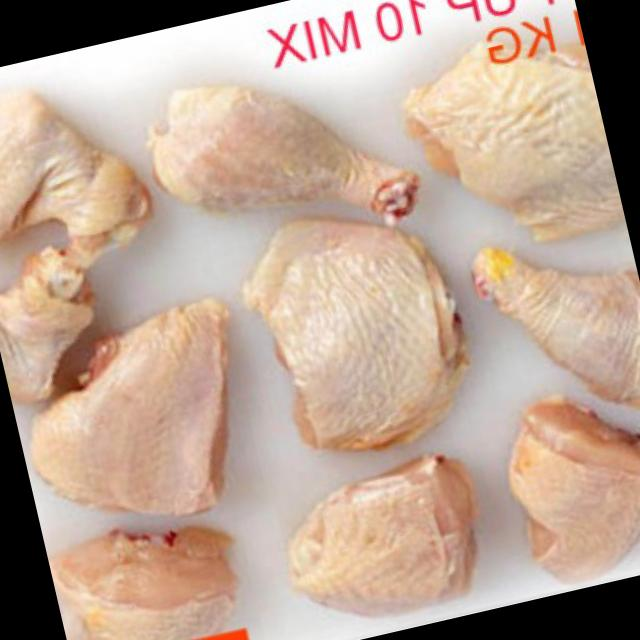chicken: (234, 190, 482, 468), (1, 292, 270, 542), (139, 48, 422, 266), (392, 17, 624, 259), (265, 446, 500, 636), (463, 214, 640, 433), (0, 63, 159, 288), (491, 368, 640, 591), (46, 512, 252, 640), (0, 228, 110, 409)
